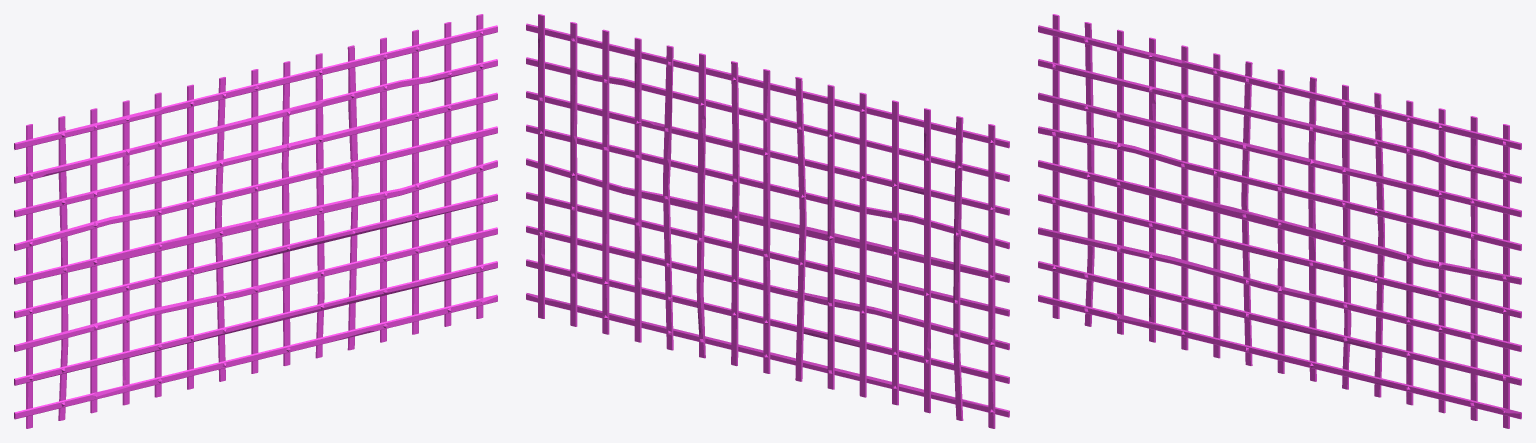
The model's file is SM_Wall_Bars_5x3m_Fantasy.fbx.
The picture shows the model from 3 angles, left to right: view 1: azimuth 30°, elevation 25°; view 2: azimuth 150°, elevation 25°; view 3: azimuth 330°, elevation 25°; orthographic projection.
Visible parts, largest first — view 1: SM_Wall_Bars_5x3m_Fantasy; view 2: SM_Wall_Bars_5x3m_Fantasy; view 3: SM_Wall_Bars_5x3m_Fantasy.
Part boxes in pixels (x1,y1,x2,y2): SM_Wall_Bars_5x3m_Fantasy: (14,14,497,428); SM_Wall_Bars_5x3m_Fantasy: (526,14,1009,428); SM_Wall_Bars_5x3m_Fantasy: (1038,14,1521,428).
Bounding box in the file's own units: 5 × 3 × 0.0908.
